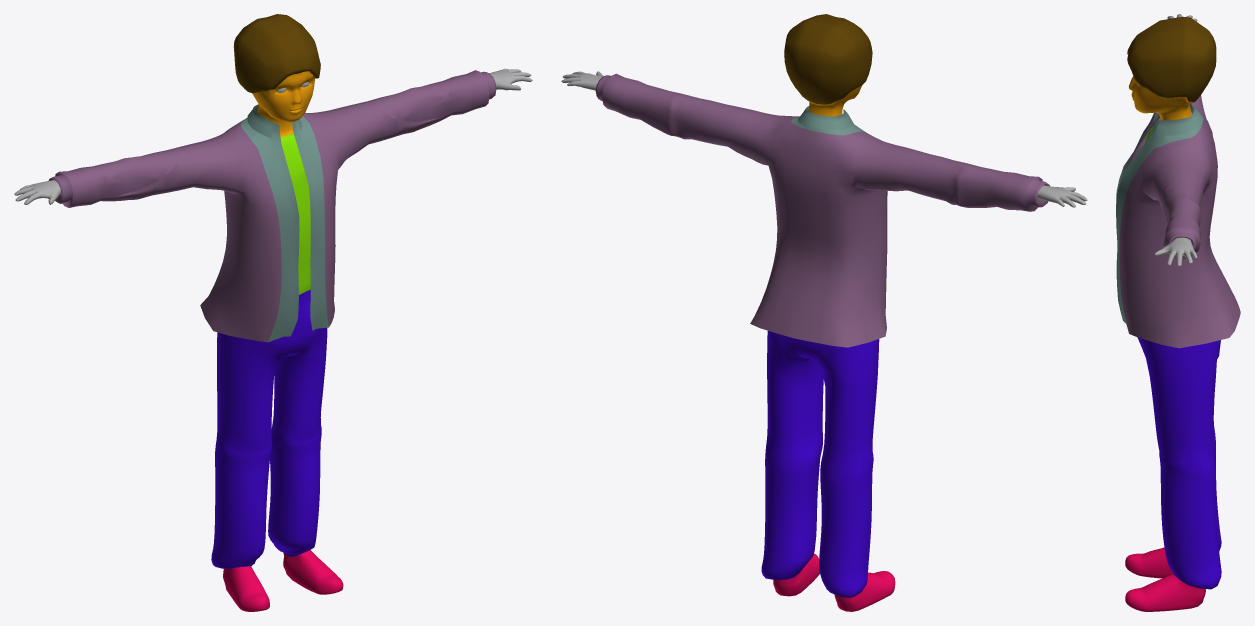
File: Syuhan_Texture_Unity.fbx
The picture shows the model from 3 angles, left to right: view 1: azimuth 30°, elevation 25°; view 2: azimuth 150°, elevation 25°; view 3: azimuth 270°, elevation 25°; orthographic projection.
Visible parts, largest first — view 1: polySurface2; view 2: polySurface2; view 3: polySurface2.
Boxes of the visible parts, bbox=[...] form: polySurface2: bbox=[14, 14, 532, 611]; polySurface2: bbox=[561, 14, 1087, 611]; polySurface2: bbox=[1116, 14, 1240, 611].
Size of the model in its own units: 143 by 150 by 29.97.
